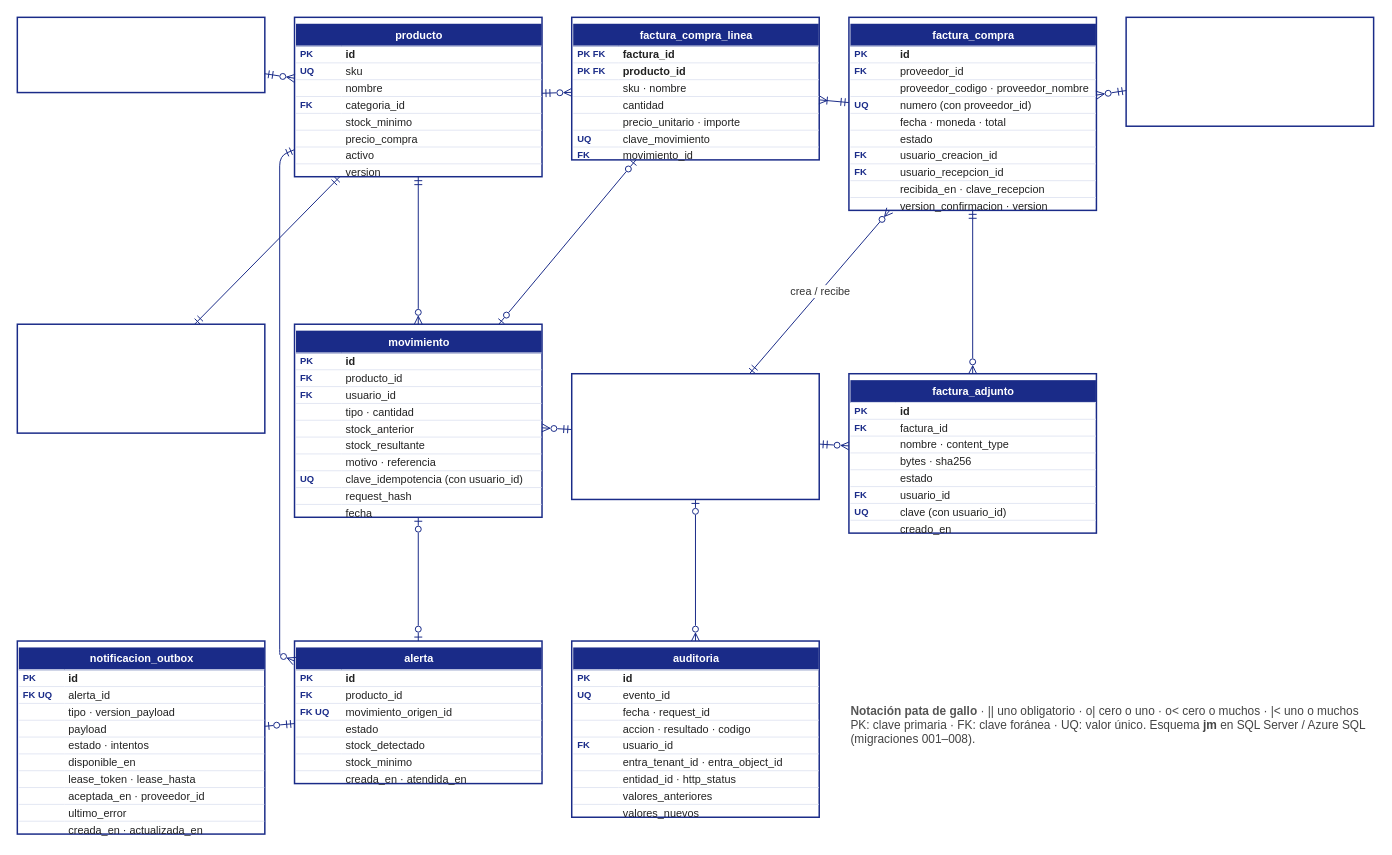
Some shapes in this 1392 by 855 pixel diagram are drawn without their labels. The centre of each missing label's shape, as x and y in pixels:
categoria PK id UQ nombre version: point 140,54
proveedor PK id UQ codigo razon_social correo activo · version: point 1249,71
stock PK FK producto_id cantidad_actual ubicacion ultima_actualizacion version: point 140,378
usuario PK id UQ entra_tenant_id UQ entra_object_id nombres rol activo: point 695,436
